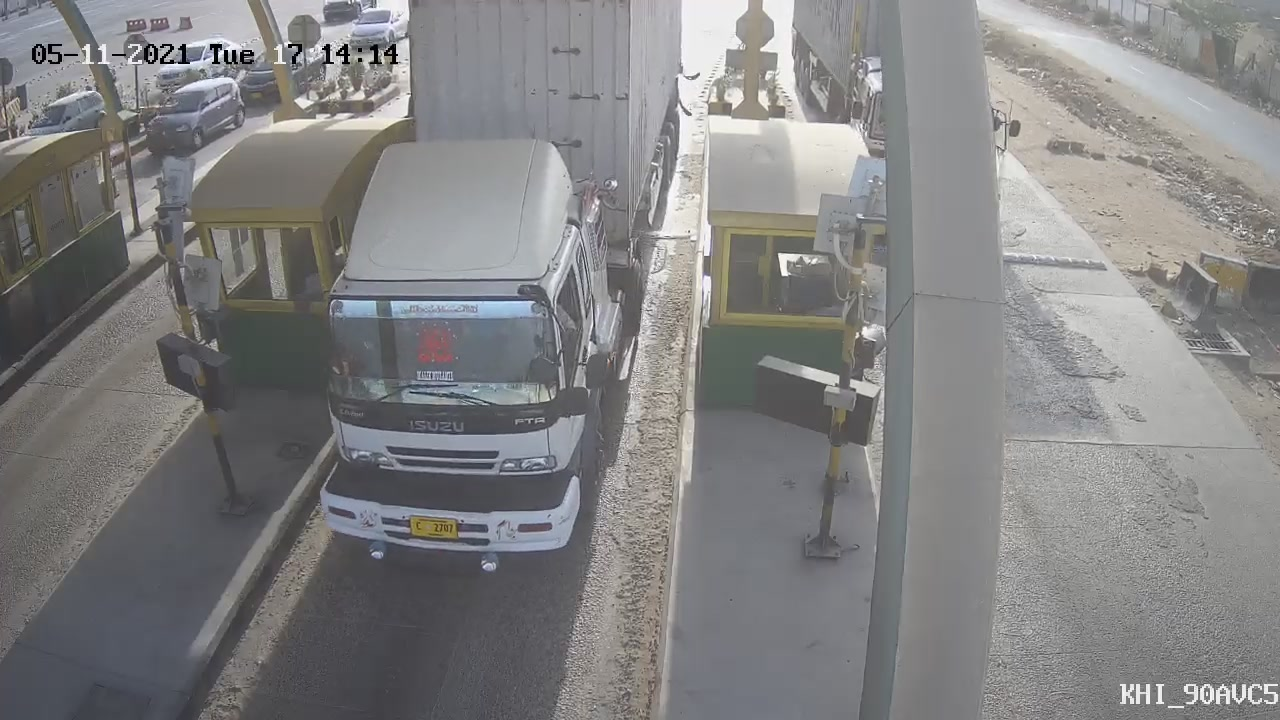F6: (255, 1, 705, 603)
